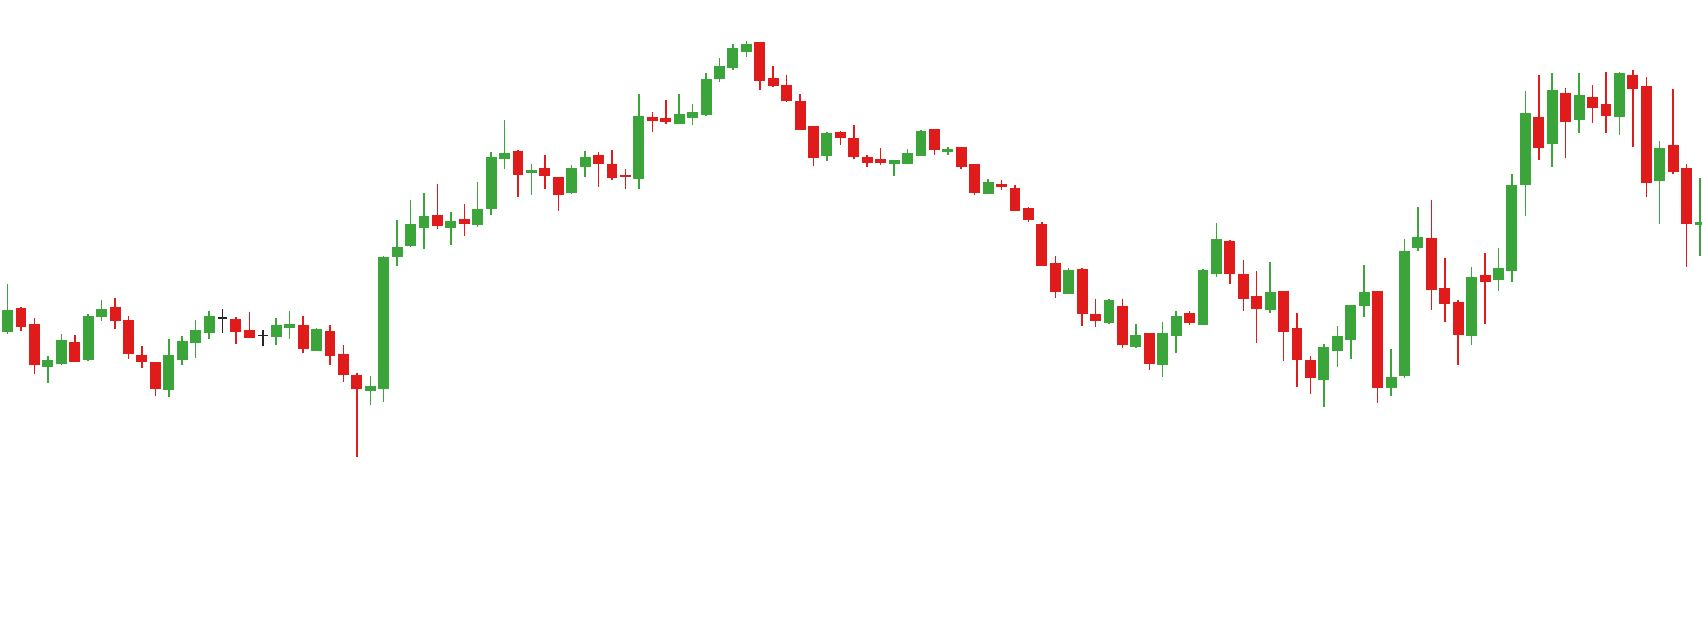buy: (149, 336, 365, 460), (1142, 286, 1331, 413)
